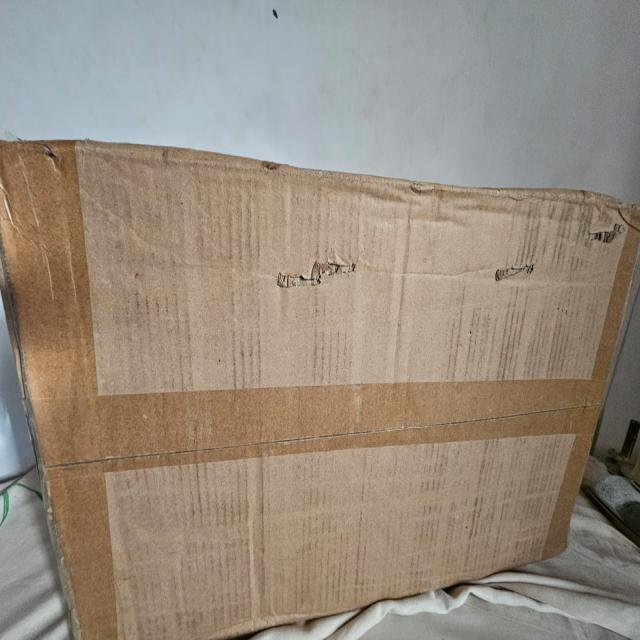carton_box: (1, 127, 640, 640)
package_damage: (261, 240, 373, 306), (487, 251, 559, 298), (585, 184, 630, 256)
